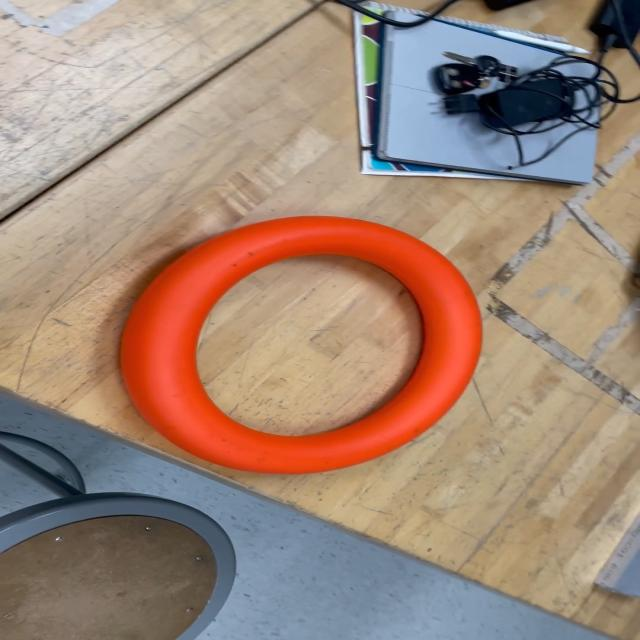note: (117, 213, 480, 476)
